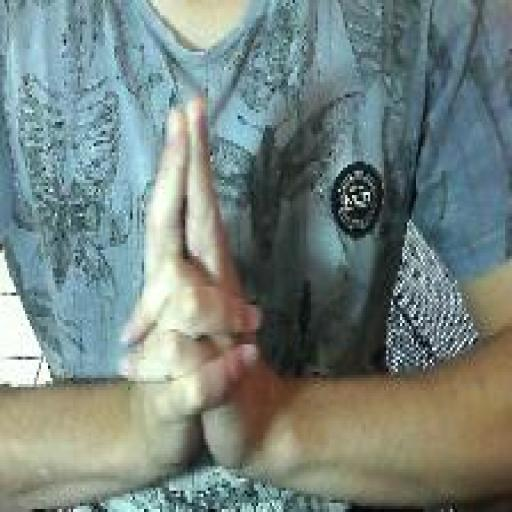Tora -tiger-: (116, 92, 268, 490)
